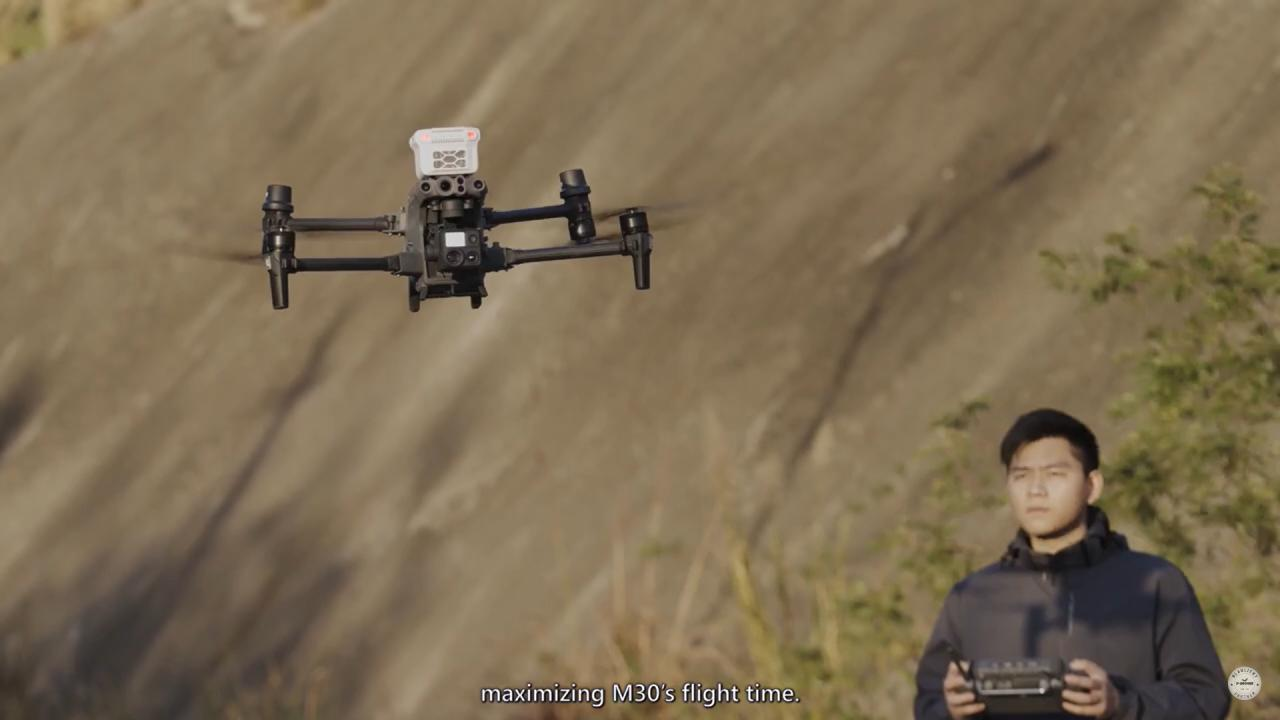Drone: (146, 105, 727, 339)
